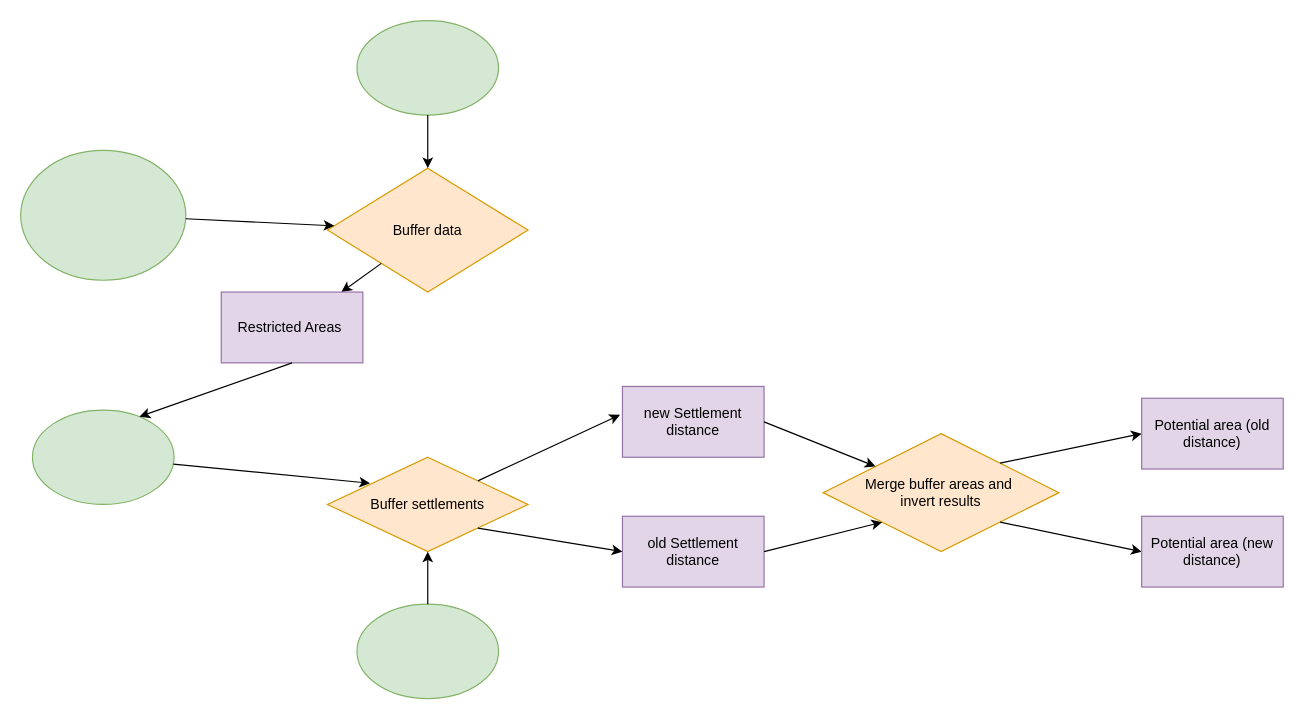
Image size: 1304x720. Some labels were removed from this diagram. Each missing label, with the centre of its shape:
Buffer distances: (427,67)
Buffer distances to settlements: (427,651)
OSM-Data: Highways, Airports, Power lines, boundaries, leisure: (102,214)
OSM-Data: Settlements: (102,456)
